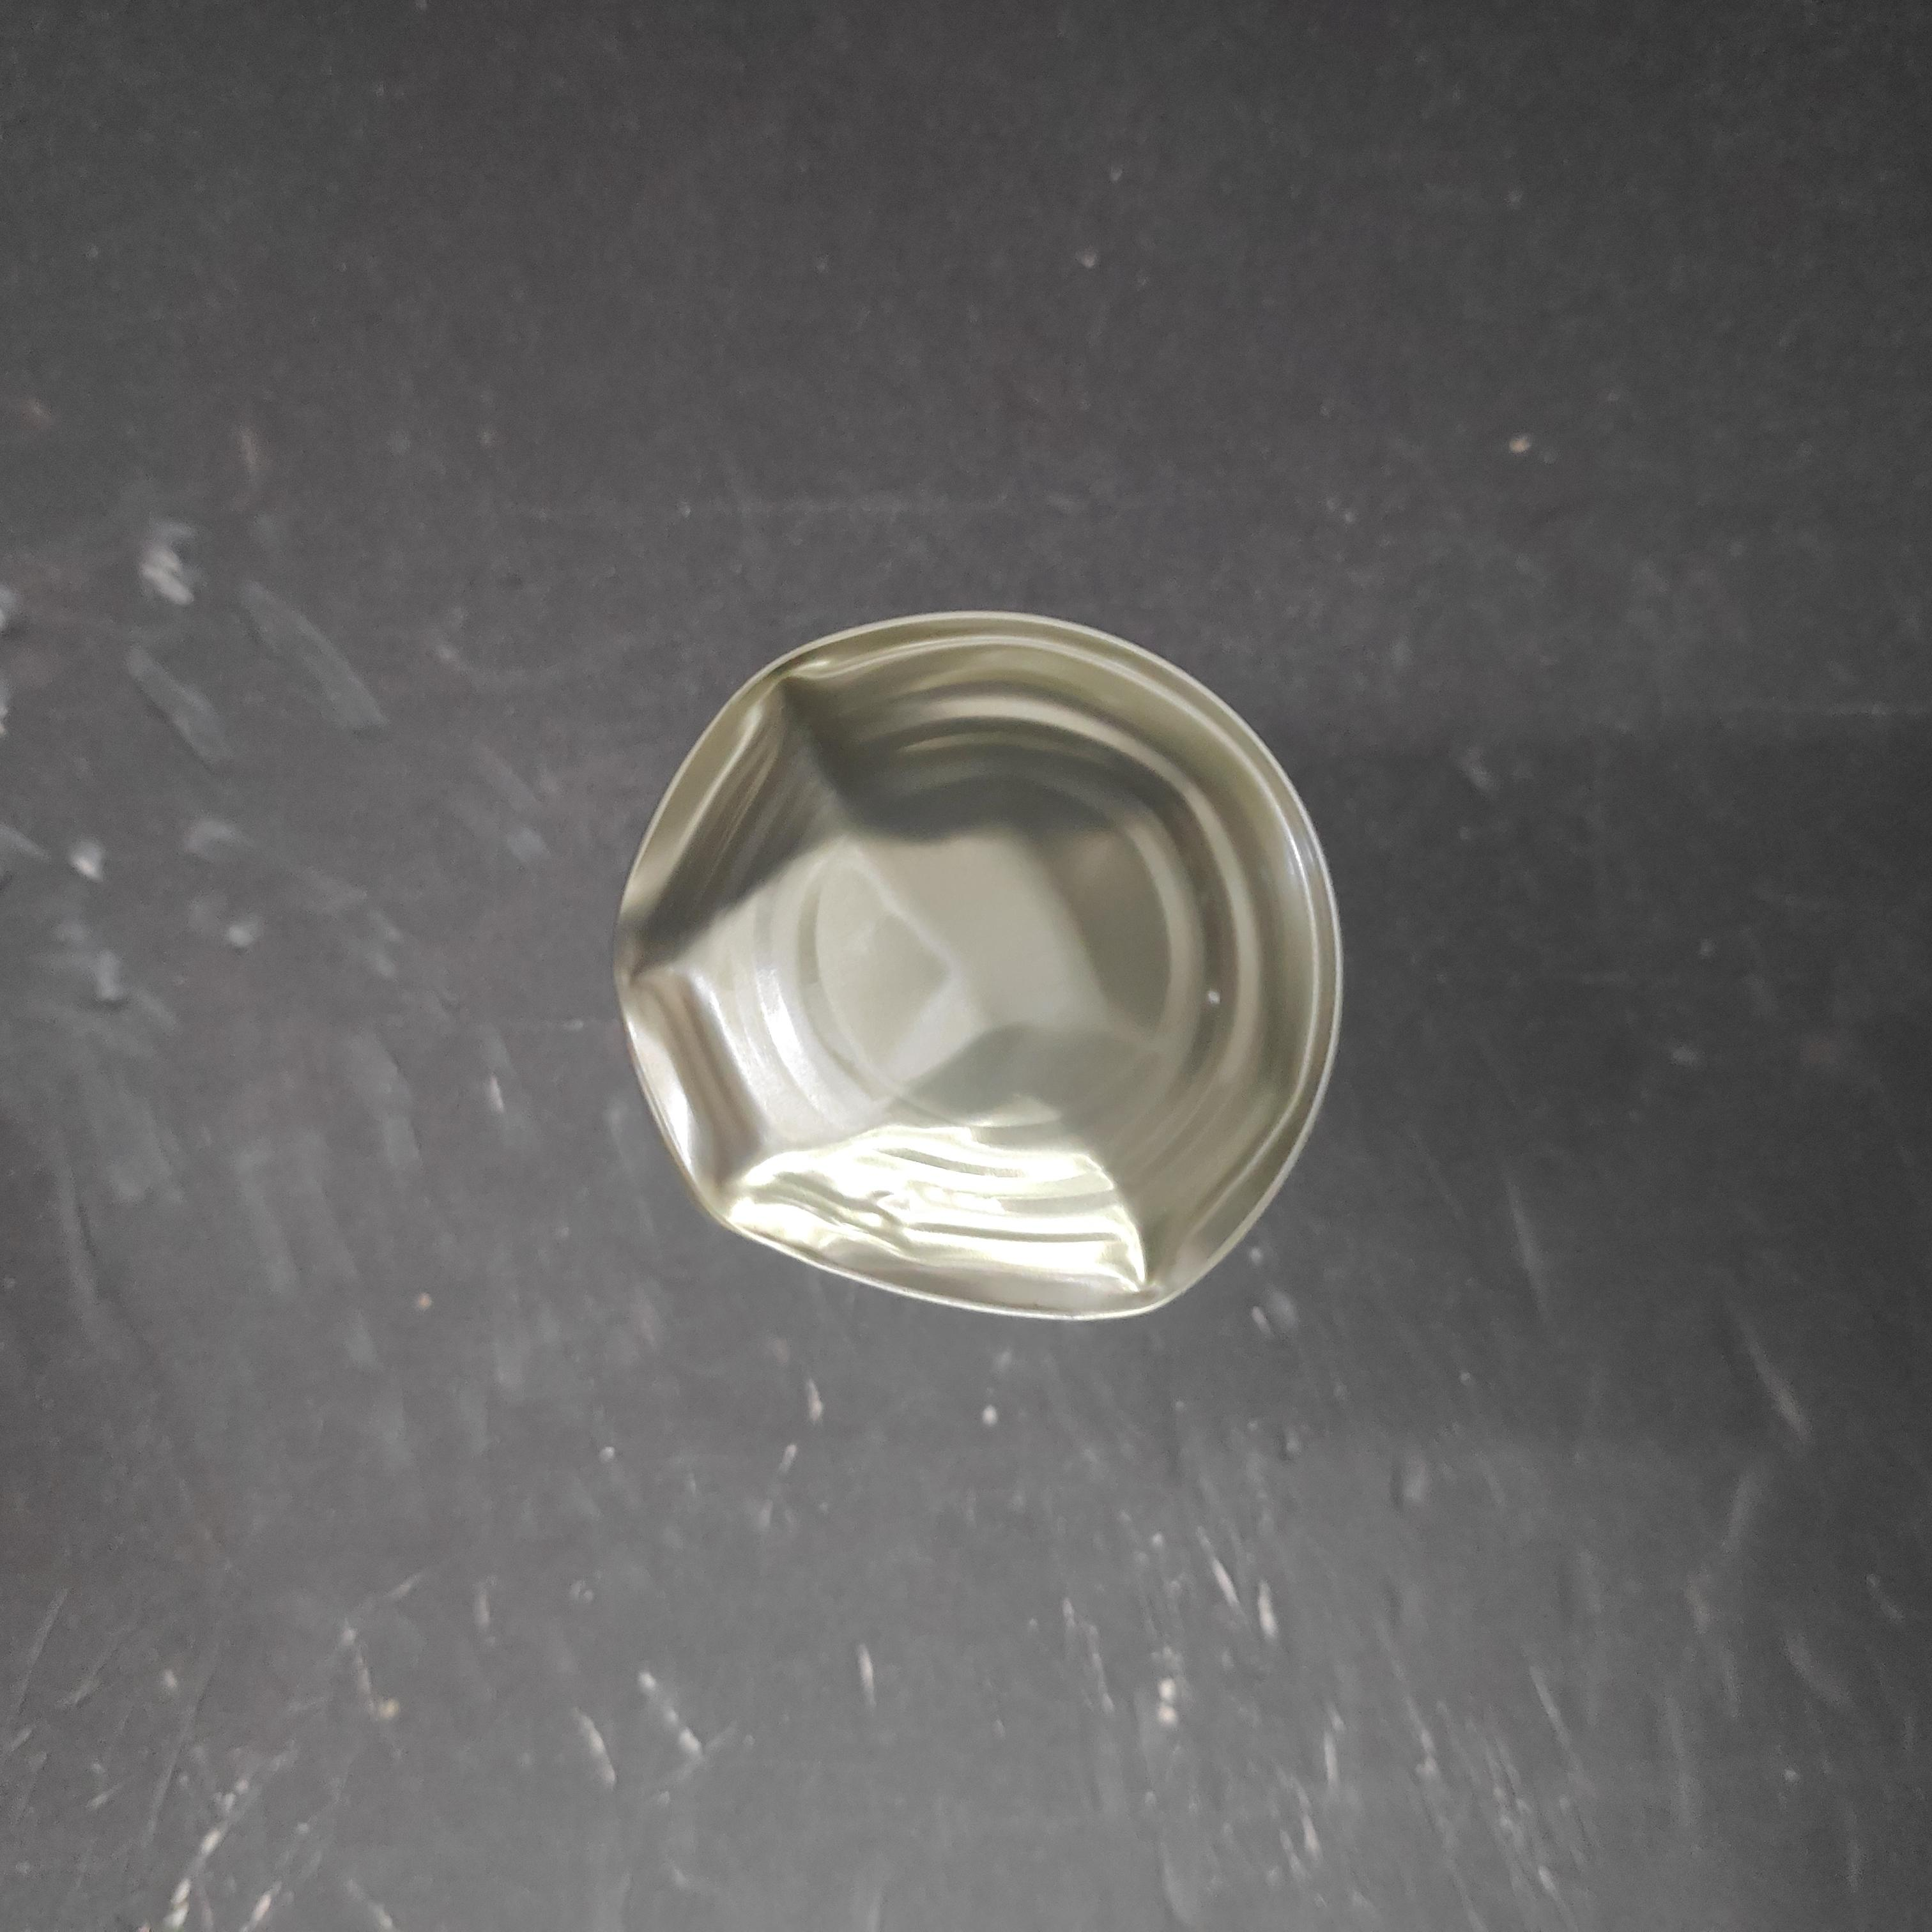Critical Defect: (599, 601, 1332, 1364)
